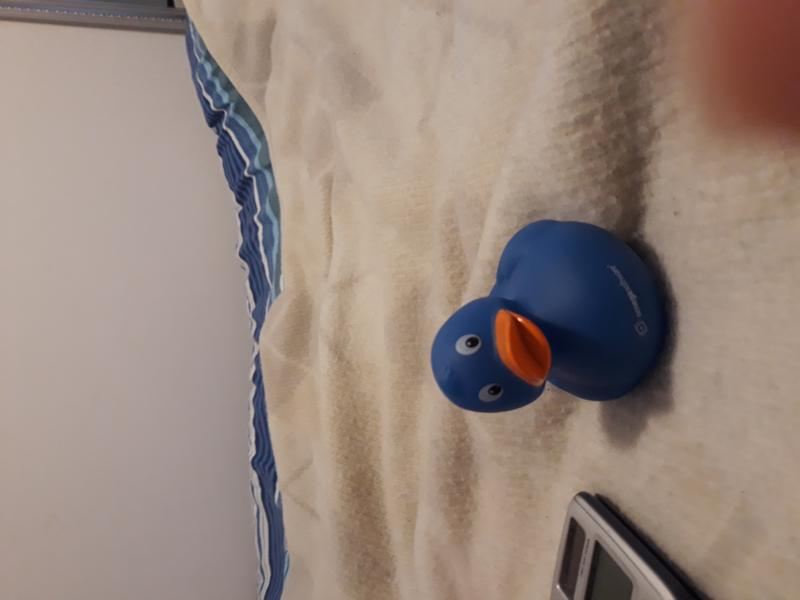plava_patkica: (421, 214, 657, 433)
